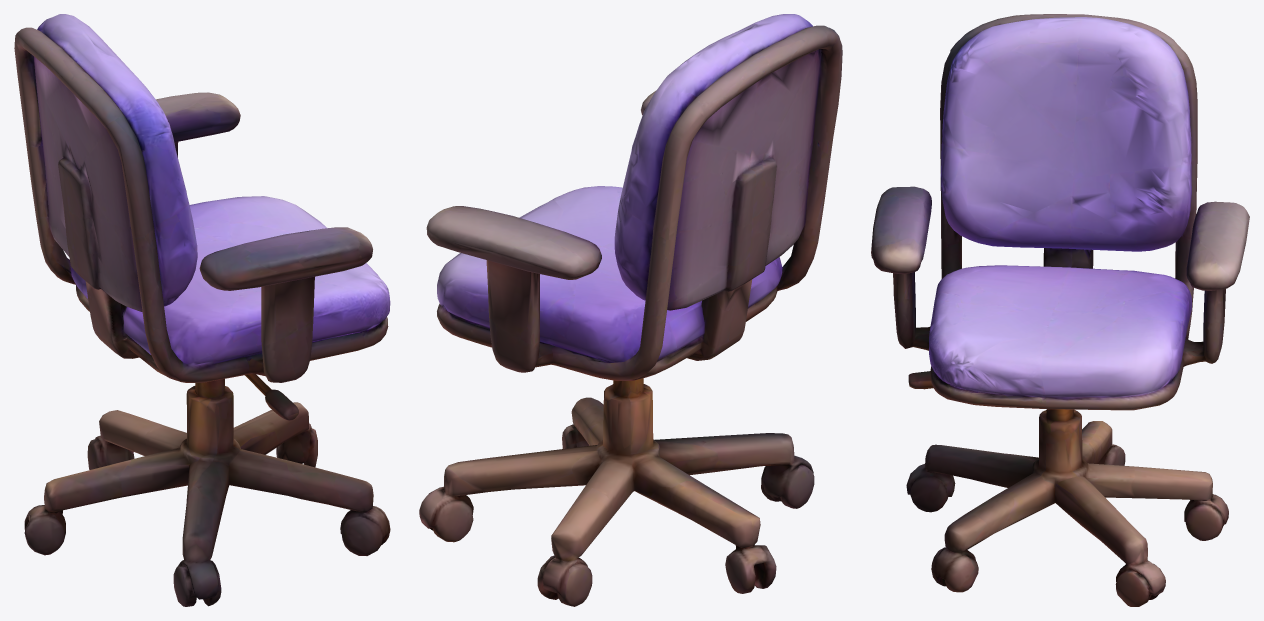
The model's file is pm_chair.glb.
The picture shows the model from 3 angles, left to right: view 1: azimuth 30°, elevation 25°; view 2: azimuth 150°, elevation 25°; view 3: azimuth 270°, elevation 25°; orthographic projection. The views are drawn at different scales.
Visible parts, largest first — view 1: tripo_node_8df20999-0607-4799-aed4-61e8bd64e6d7; view 2: tripo_node_8df20999-0607-4799-aed4-61e8bd64e6d7; view 3: tripo_node_8df20999-0607-4799-aed4-61e8bd64e6d7.
Part boxes in pixels (x1,y1,x2,y2): tripo_node_8df20999-0607-4799-aed4-61e8bd64e6d7: [14, 14, 390, 606]; tripo_node_8df20999-0607-4799-aed4-61e8bd64e6d7: [419, 14, 842, 606]; tripo_node_8df20999-0607-4799-aed4-61e8bd64e6d7: [871, 14, 1249, 606].
Bounding box in the file's own units: 0.6243 × 0.9785 × 0.7086.
1 material, 1 textured.
